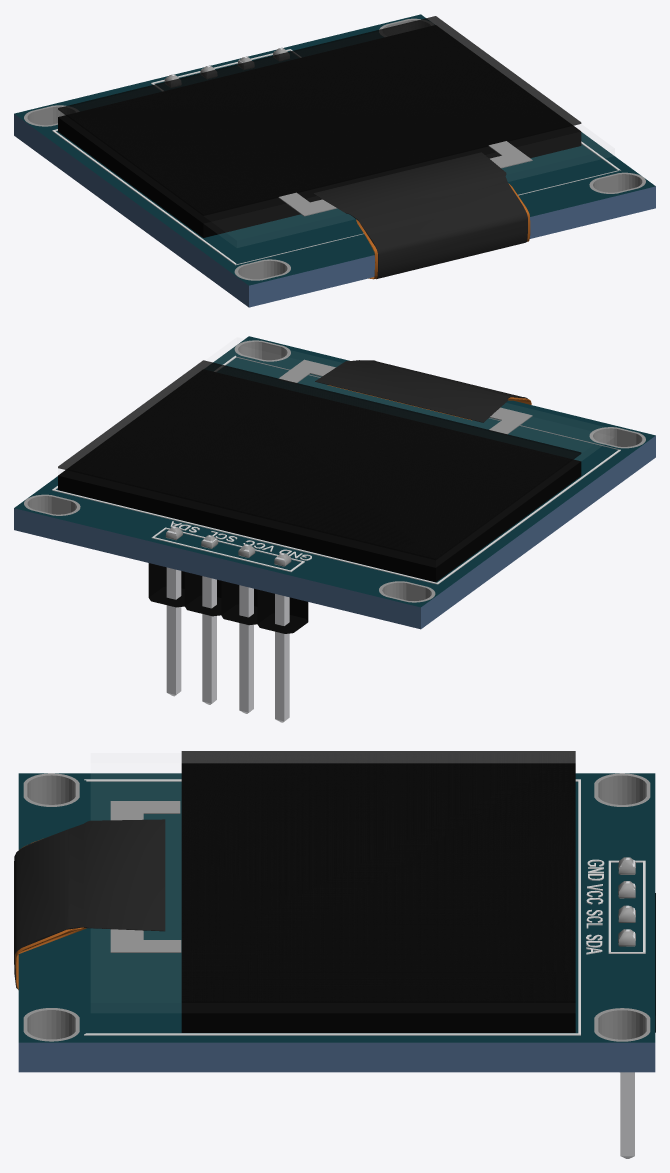
File: oled.glb
The picture shows the model from 3 angles, top to bottom: view 1: azimuth 30°, elevation 25°; view 2: azimuth 150°, elevation 25°; view 3: azimuth 270°, elevation 25°; orthographic projection. The views are drawn at different scales.
Parts seen in each view (by area): view 1: VIDRO_FUNDO-material, LCD-material, PRETO-material, plastico_trasp-material, Material_011-material, Metal_004-material (×2), branco_001-material; view 2: VIDRO_FUNDO-material, LCD-material, PRETO-material, Material_011-material, metal_parafuso_002-material, plastico_trasp-material, Metal_004-material (×2), plastico_preto_003-material, branco_001-material; view 3: VIDRO_FUNDO-material, LCD-material, PRETO-material, Material_011-material, plastico_trasp-material, Metal_004-material (×2), branco_001-material, metal_parafuso_002-material.
Part boxes in pixels (bbox=[...]): VIDRO_FUNDO-material: bbox=[58, 25, 581, 237]; LCD-material: bbox=[58, 16, 581, 215]; PRETO-material: bbox=[14, 14, 655, 285]; plastico_trasp-material: bbox=[313, 152, 527, 279]; Material_011-material: bbox=[14, 114, 655, 307]; Metal_004-material (×2): bbox=[24, 18, 645, 280]; branco_001-material: bbox=[52, 49, 621, 265]; VIDRO_FUNDO-material: bbox=[58, 370, 581, 582]; LCD-material: bbox=[58, 360, 581, 560]; PRETO-material: bbox=[14, 336, 655, 607]; Material_011-material: bbox=[14, 436, 655, 629]; metal_parafuso_002-material: bbox=[166, 526, 289, 722]; plastico_trasp-material: bbox=[315, 360, 527, 422]; Metal_004-material (×2): bbox=[24, 340, 645, 602]; plastico_preto_003-material: bbox=[148, 563, 308, 633]; branco_001-material: bbox=[52, 355, 620, 584]; VIDRO_FUNDO-material: bbox=[181, 764, 575, 1032]; LCD-material: bbox=[181, 751, 575, 1002]; PRETO-material: bbox=[18, 773, 655, 1042]; Material_011-material: bbox=[18, 1042, 655, 1072]; plastico_trasp-material: bbox=[14, 819, 165, 988]; Metal_004-material (×2): bbox=[23, 773, 650, 1072]; branco_001-material: bbox=[84, 779, 645, 1035]; metal_parafuso_002-material: bbox=[620, 857, 634, 1158].
Size of the model in its own units: 0.0291 by 0.0125 by 0.0294.
